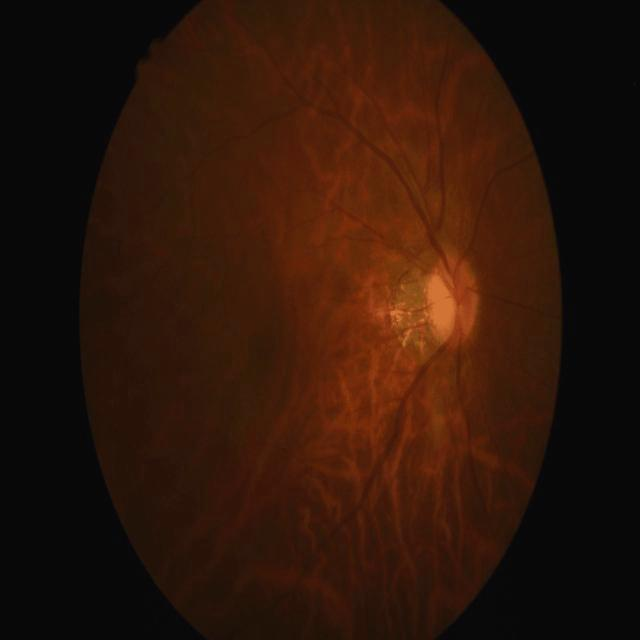cup: (438, 270, 466, 336)
disk: (424, 250, 480, 348)
